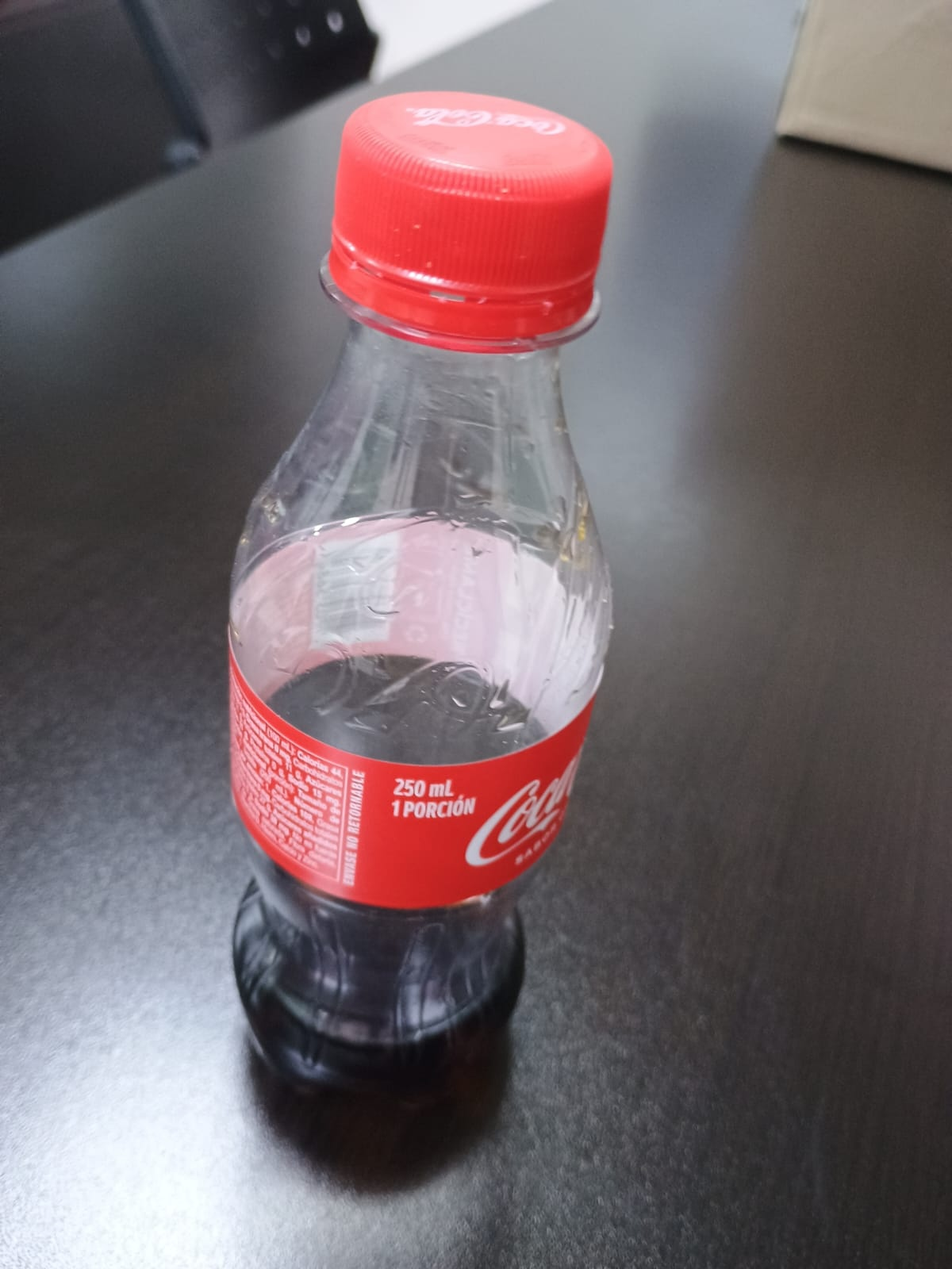Plastico: (225, 92, 613, 1106)
